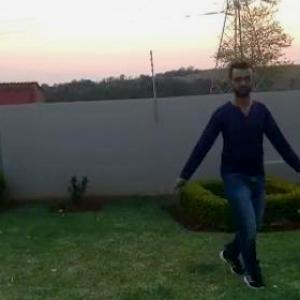land: (174, 62, 299, 275)
